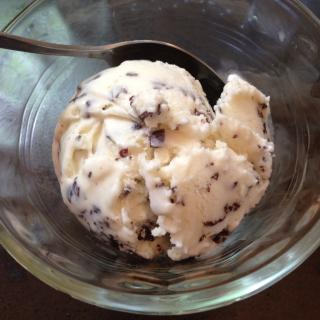Ice cream: (51, 59, 274, 260)
